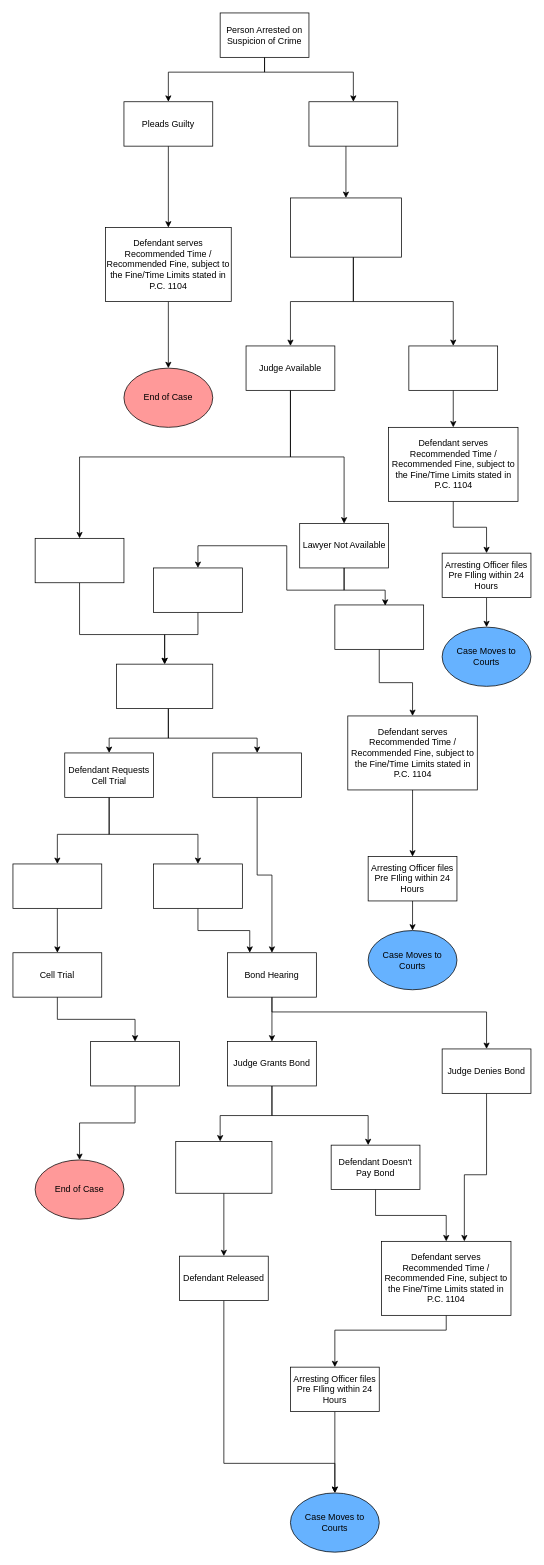
This 544x1565 diagram has some shape labels left out. The shapes that lost their labels are listed below. From the top down, each one's centre as x and y in pixels, then its label:
At (353,123): "Pleads Not Guilty".
At (345,227): "Arresting Officer determines if Judge is available (/judge)".
At (453,367): "Judge Not Available".
At (79,560): "Lawyer Available".
At (197,589): "Defendant Agrees to Self Represent".
At (379,626): "Defendant does NOT agree to Self Represent".
At (164,686): "Does Defendant want a Cell Trial?".
At (257,774): "Defendant doesn't request Cell Trial".
At (57,885): "Prosecution Available".
At (197,885): "Prosecution Not Available".
At (134,1063): "Judge Decides Case. No Jury.".
At (223,1167): "Defendant Pays Bond".
